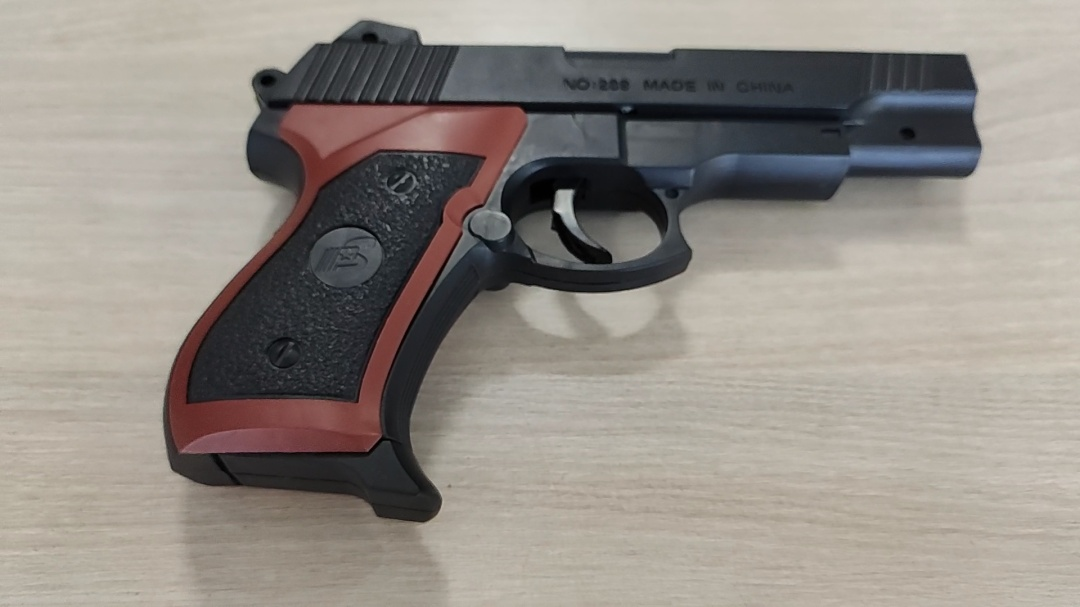gun: (488, 186, 623, 331)
